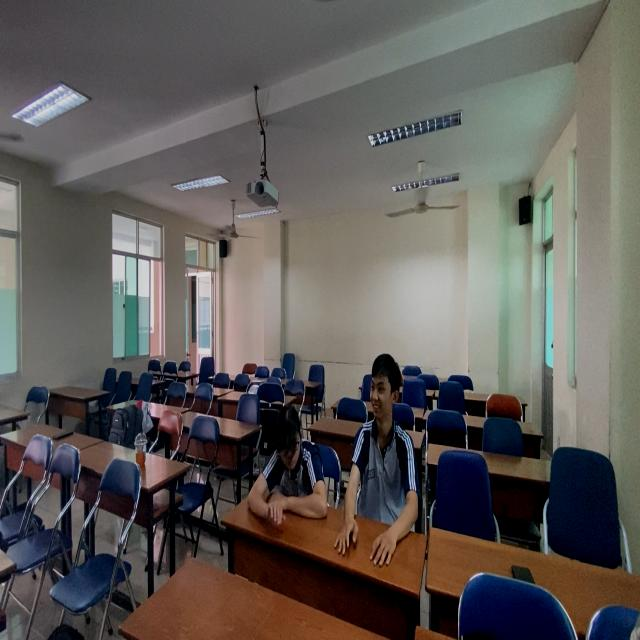sleep: (237, 409, 332, 536)
